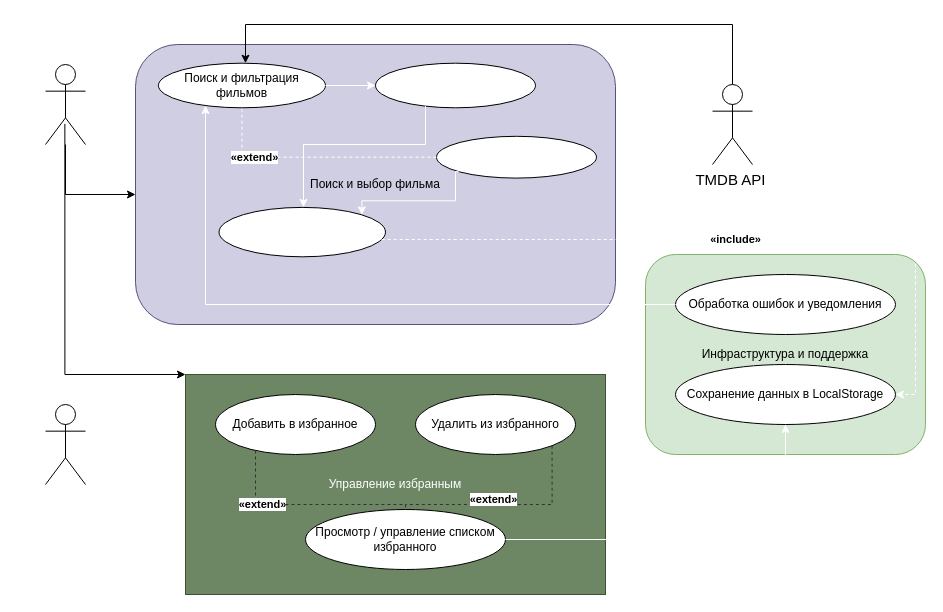
This 943x612 diagram has some shape labels left out. The shapes that lost their labels are listed below. From the top down, each one's centre as x and y in pixels, then its label:
the point at 65,104: Пользователь
the point at 455,85: Просмотр списка фильмов
the point at 516,156: Выбор случайного фильма
the point at 302,231: Просмотр карточки фильма
the point at 65,444: Веб-браузер
